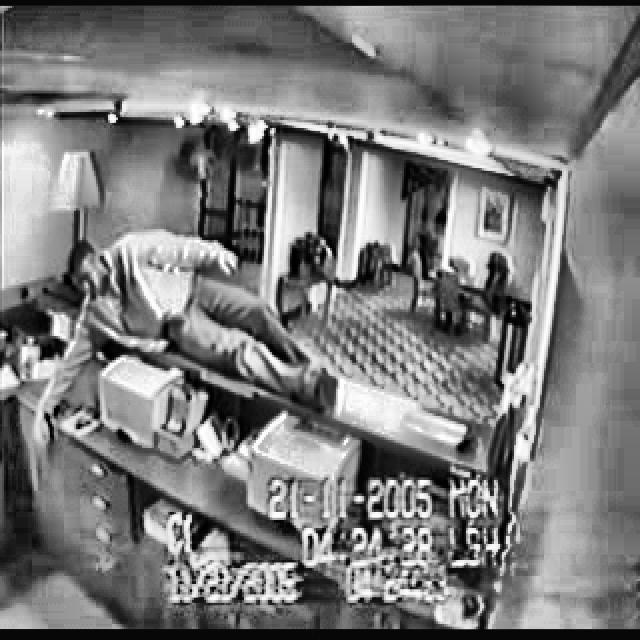burglary: (31, 220, 345, 536)
